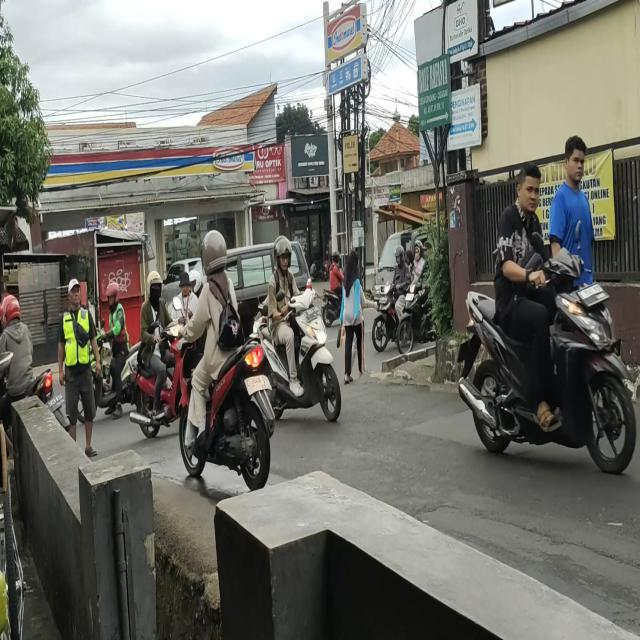helmet: (200, 225, 229, 278), (0, 292, 21, 332), (273, 237, 292, 274), (146, 269, 163, 300), (106, 283, 120, 307), (393, 245, 405, 267), (415, 242, 423, 260), (333, 252, 341, 264)
no-helmet: (516, 165, 540, 212)
